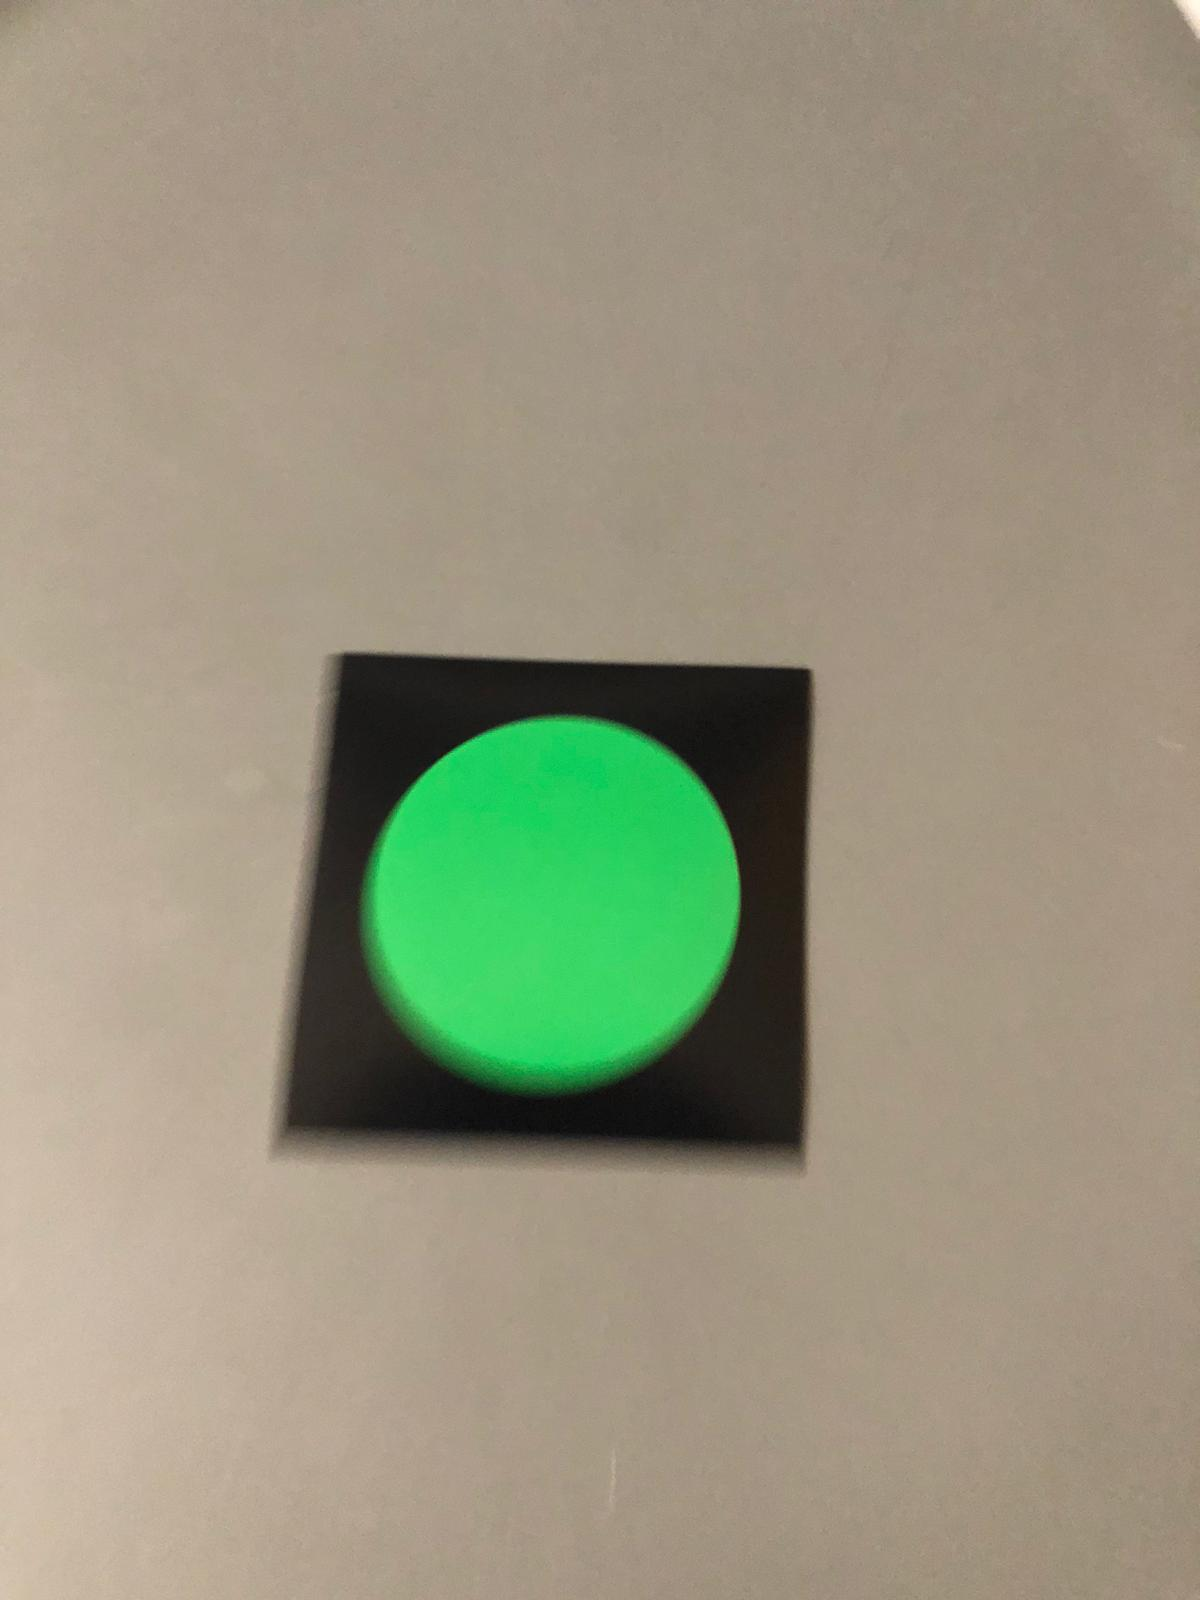Circle: (334, 677, 769, 1143)
